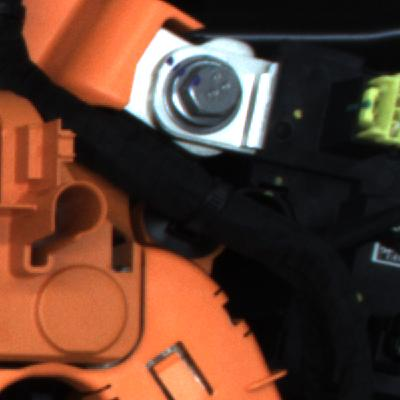nut_b: (160, 54, 260, 135)
